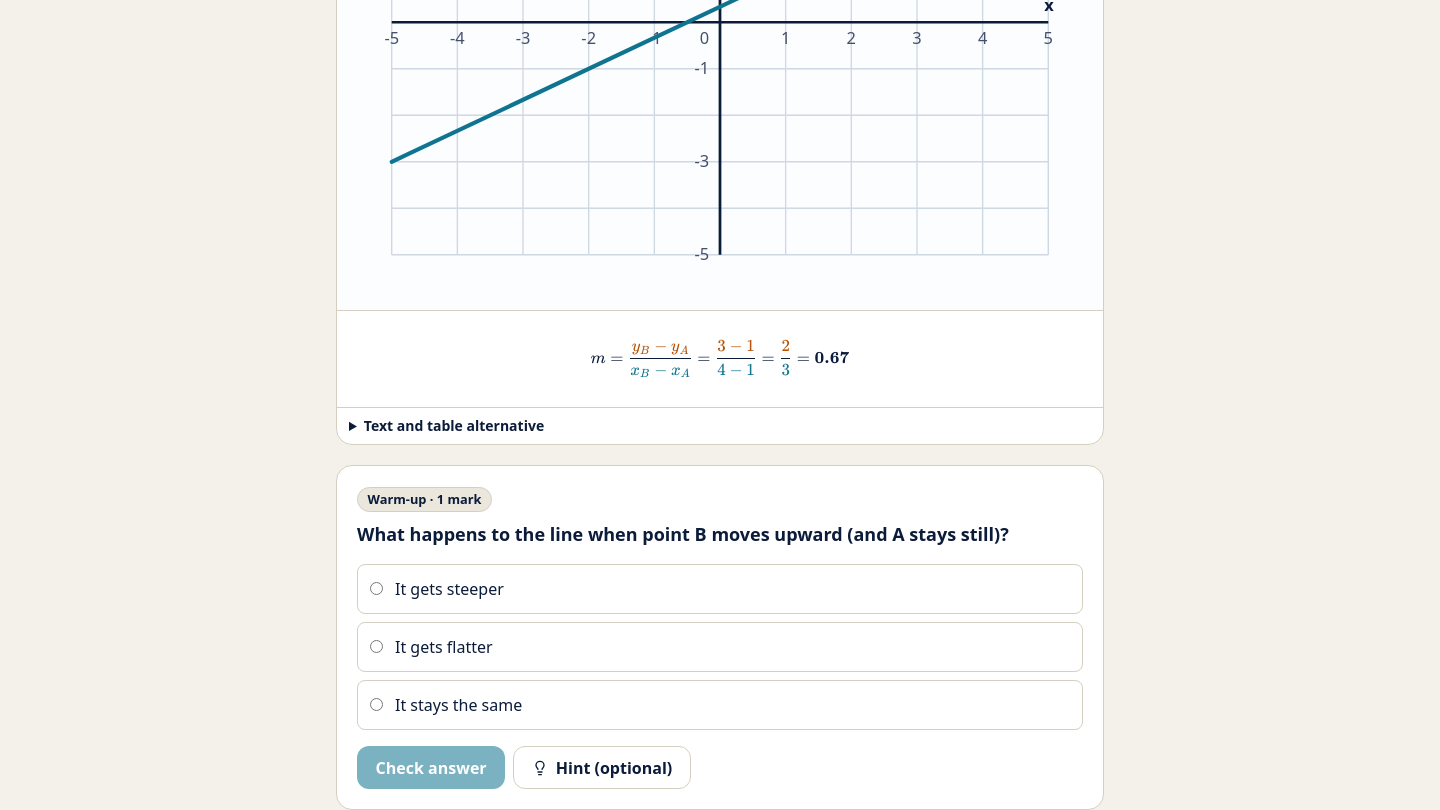
Test: lesson feedback never advances by itself › keeps a correct answer on screen with the exact message, separate rewards and a Next Question button
The width and height of the screenshot is (1440, 810).
(page scrolled)
Click the radio button labelled "It gets steeper" at point(376, 589), box [370, 582, 383, 595]
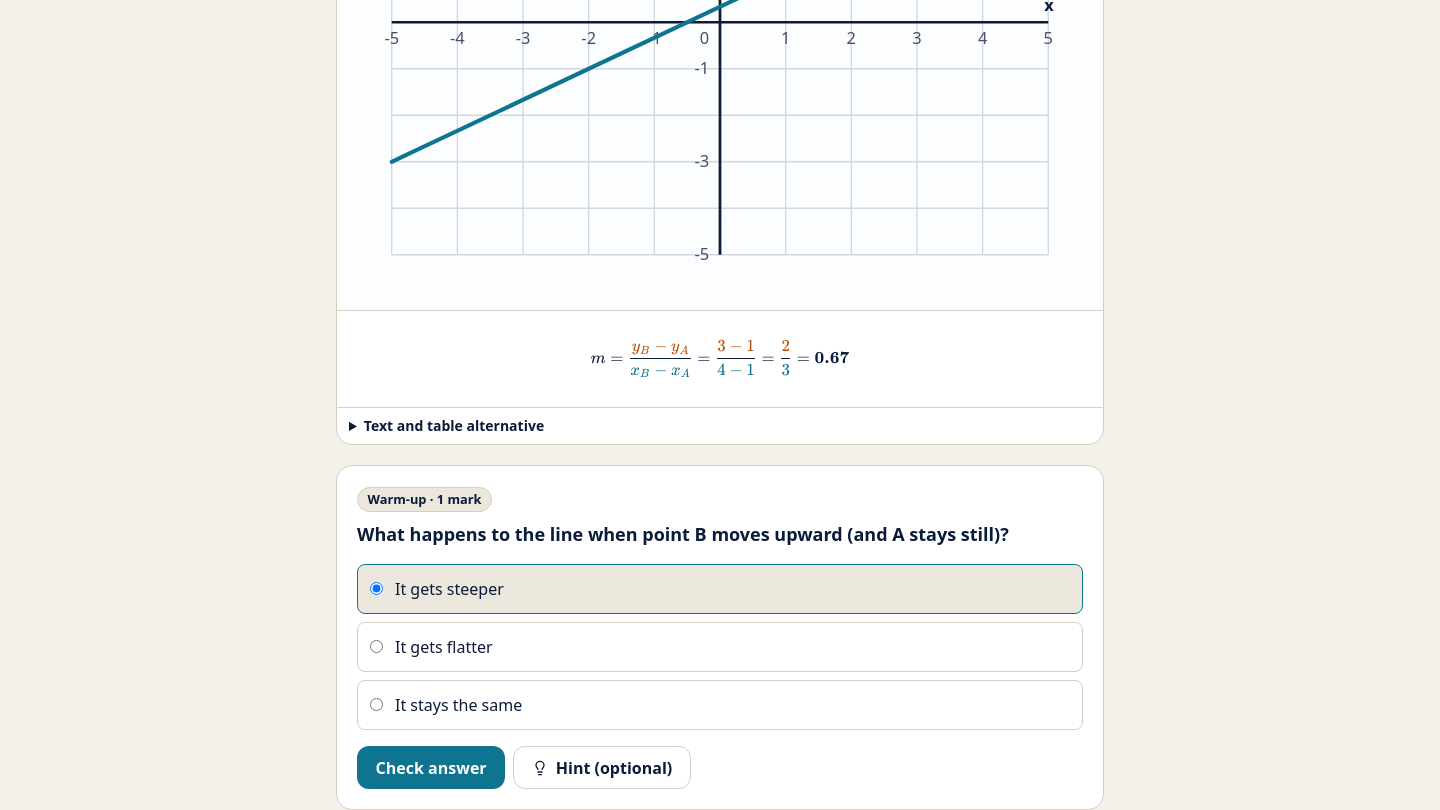
Click the button "Check answer" at point(431, 768), box [357, 746, 505, 789]
(page scrolled)
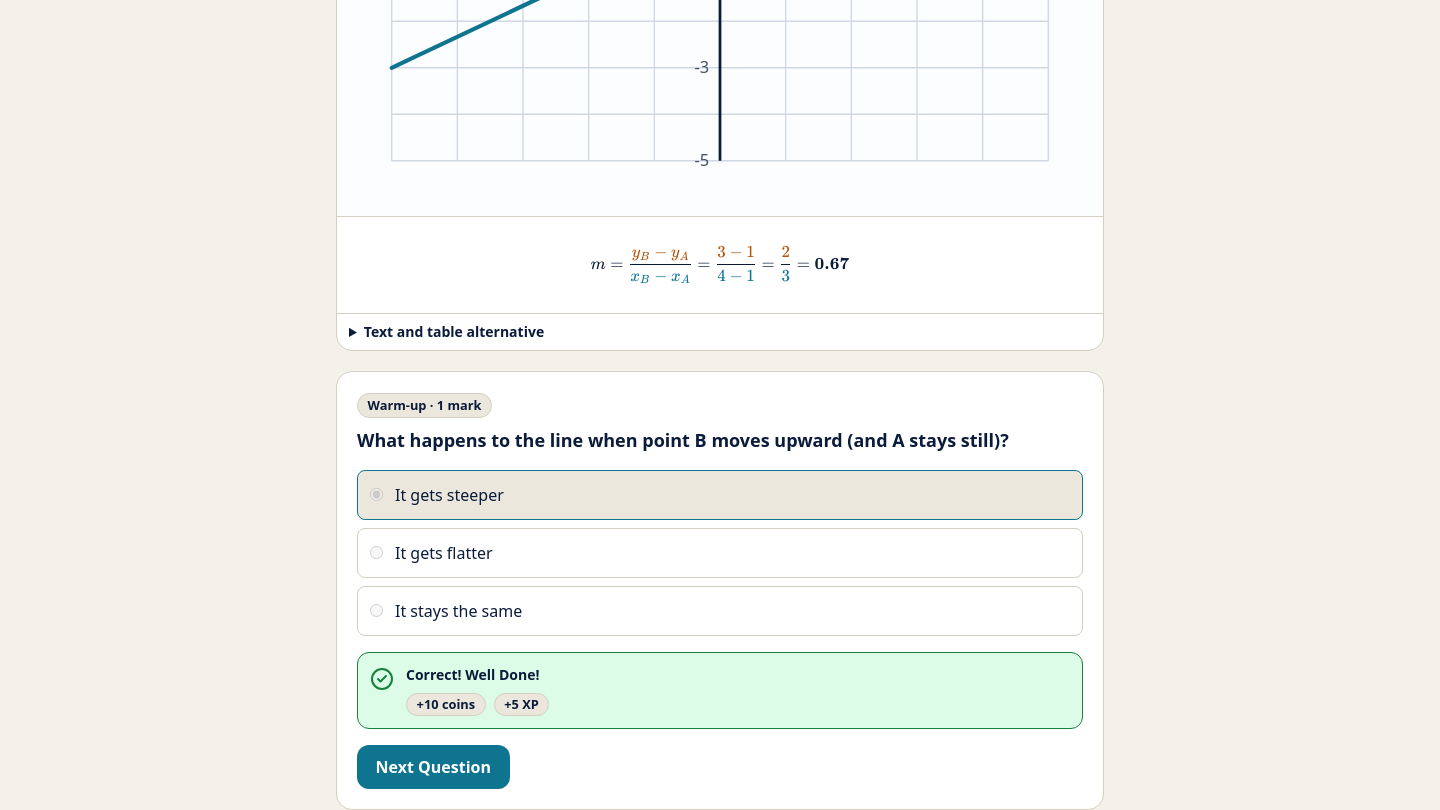
expect the message shows "Correct! Well Done!": met, box [406, 665, 539, 684]
expect the text "+10 coins" is shown: met, box [406, 693, 486, 716]
expect the text "+5 XP" is shown: met, box [494, 693, 550, 716]
Click the button "Next Question" at point(433, 767), box [357, 745, 510, 789]
(page scrolled)
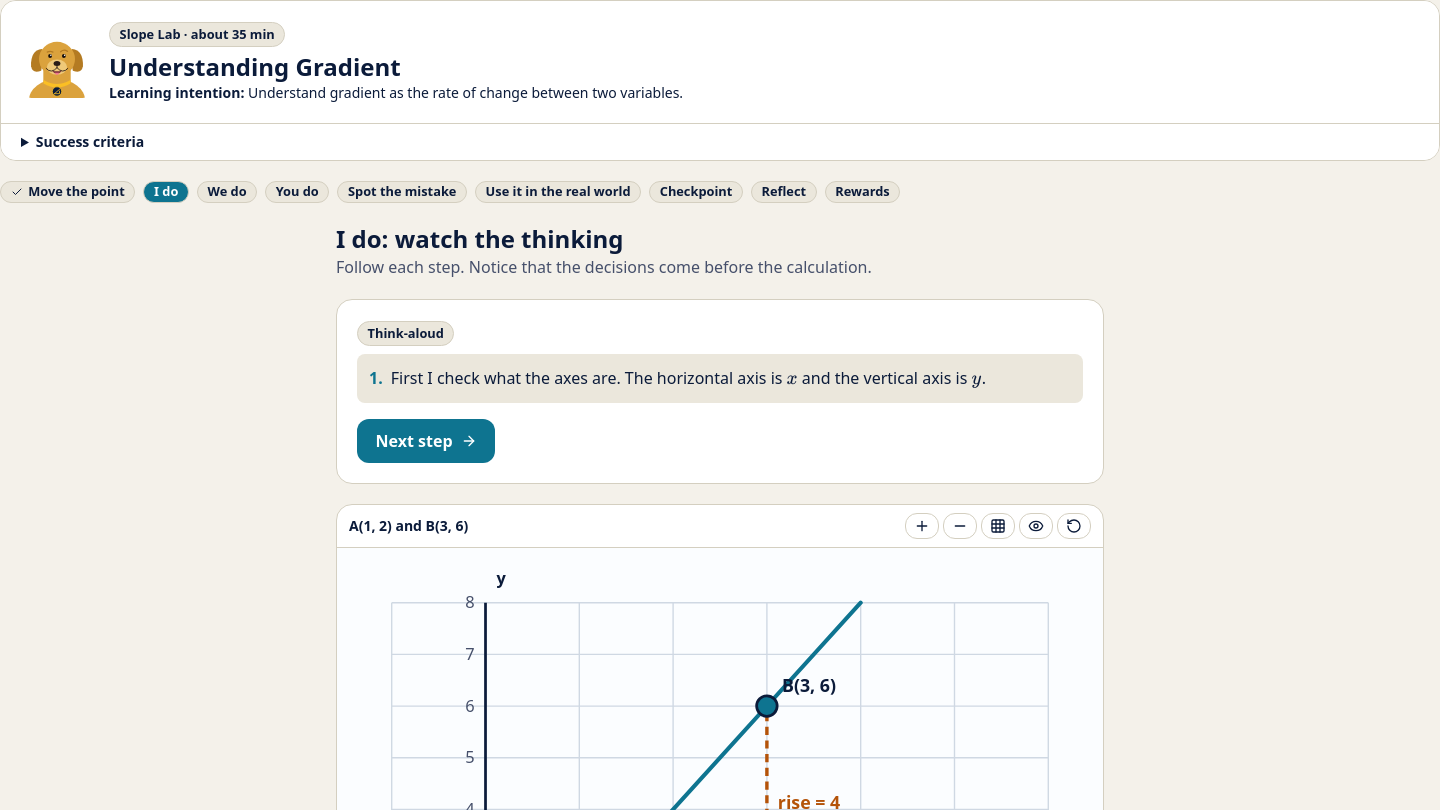
expect the heading "I do: watch the thinking" is shown: met, box [336, 222, 624, 255]
